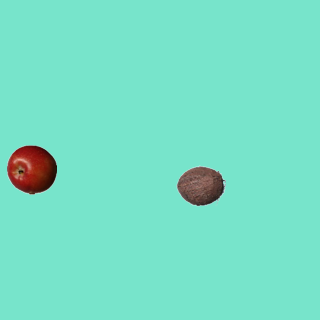Apple Braeburn: (6, 144, 56, 194)
Cocos: (175, 160, 225, 210)
